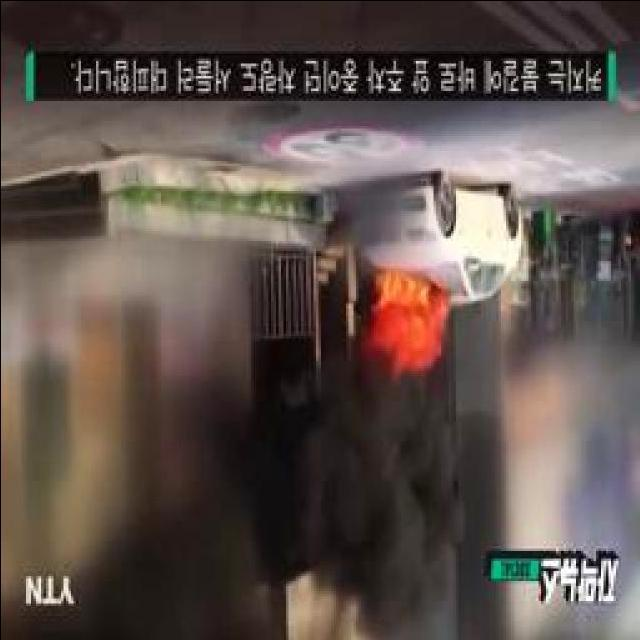Fire: (366, 266, 451, 366)
